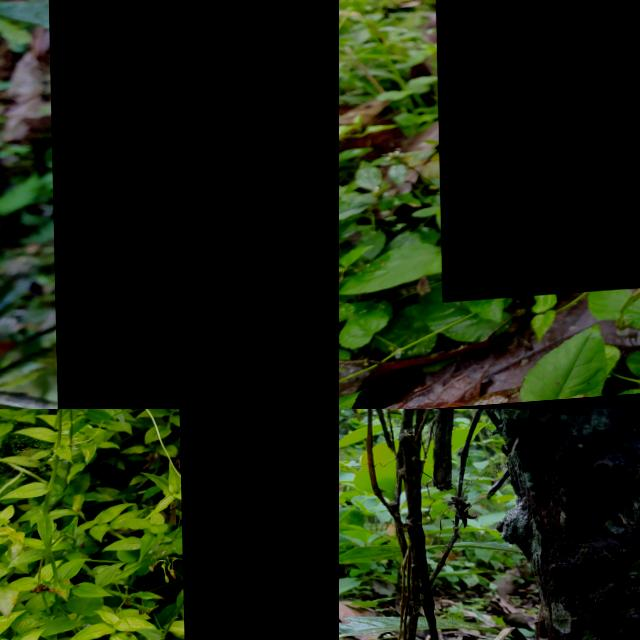Fitoftora: (432, 0, 640, 304), (176, 409, 339, 640)
Monilia: (47, 0, 339, 409)
